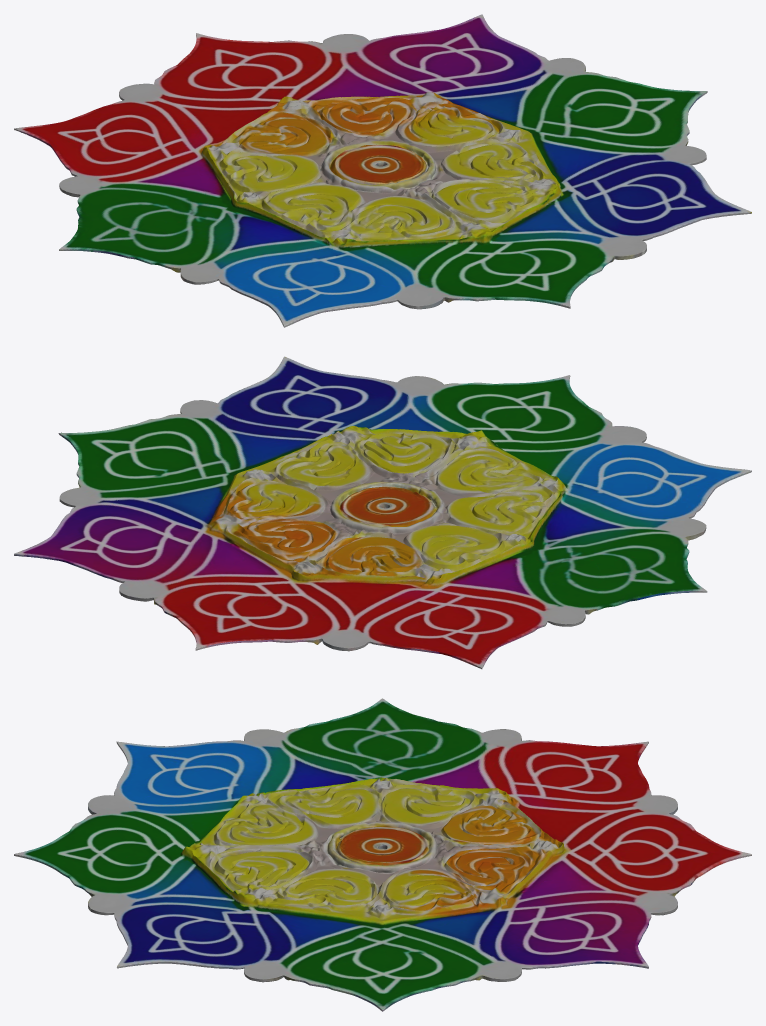
The picture shows the model from 3 angles, top to bottom: view 1: azimuth 30°, elevation 25°; view 2: azimuth 150°, elevation 25°; view 3: azimuth 270°, elevation 25°; orthographic projection.
Parts seen in each view (by area): view 1: tripo_node_d8c2ba12-3880-477c-9c83-aa12d8ffbea4; view 2: tripo_node_d8c2ba12-3880-477c-9c83-aa12d8ffbea4; view 3: tripo_node_d8c2ba12-3880-477c-9c83-aa12d8ffbea4.
Boxes of the visible parts, x1,y1,x2,y2 form: tripo_node_d8c2ba12-3880-477c-9c83-aa12d8ffbea4: [14, 14, 751, 327]; tripo_node_d8c2ba12-3880-477c-9c83-aa12d8ffbea4: [14, 356, 751, 669]; tripo_node_d8c2ba12-3880-477c-9c83-aa12d8ffbea4: [14, 698, 751, 1011].
Bounding box in the file's own units: 1 × 0.0264 × 0.9995.
1 material, 1 textured.
